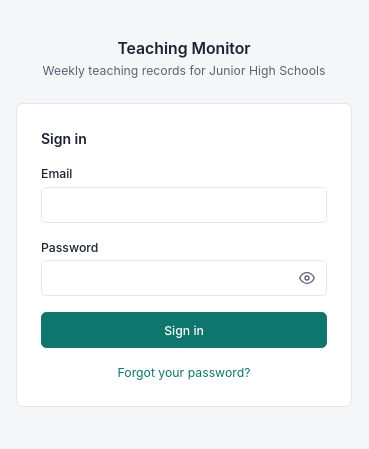
sign-in feedback › shows the request is in flight: busy button, locked fields, status, then a slow-server note
The image size is (369, 449).
Type "head@test.example" into the field labelled "Email" at (184, 205), box [41,187,327,223]
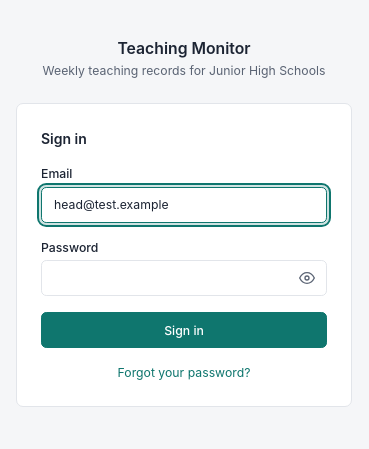
Type "Accra-Sunrise-2026" into the password field labelled "Password" at (184, 278), box [41,260,327,296]
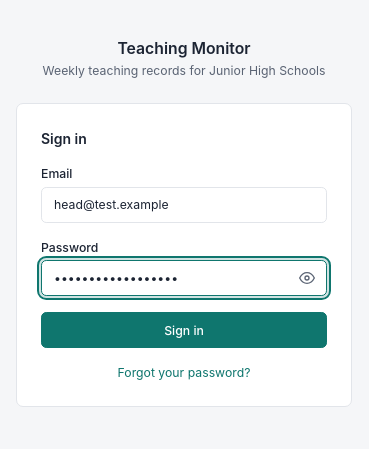
Click the button "Sign in" at (184, 330), box [41,312,327,348]
Wait 4100 ms
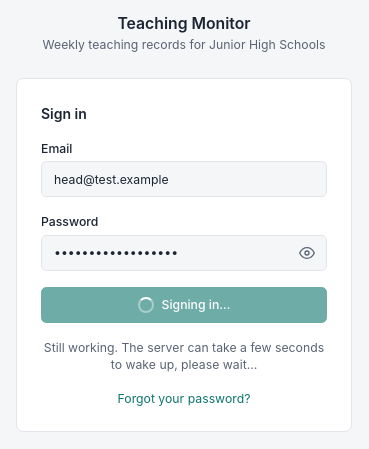
Expected: the field labelled "Email" is disabled, [41,161,327,197]
Result: the button "Signing in…" is disabled at [41,287,327,323]
Result: the text "Still working. The server can take a few seconds to wake up, please wait…" is shown at [41,339,327,374]
